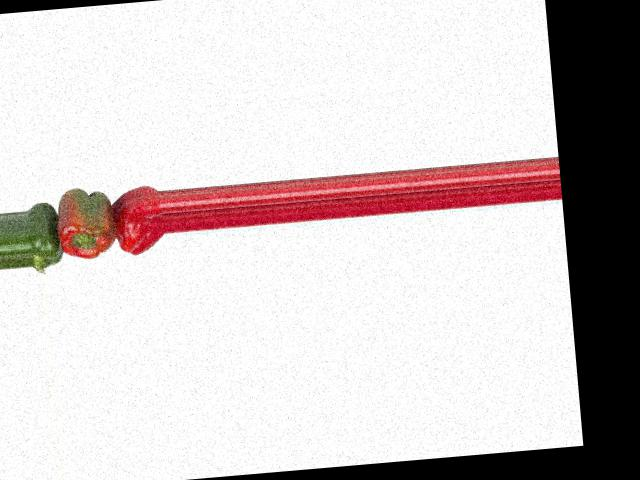bell_pepper: (109, 181, 166, 262)
